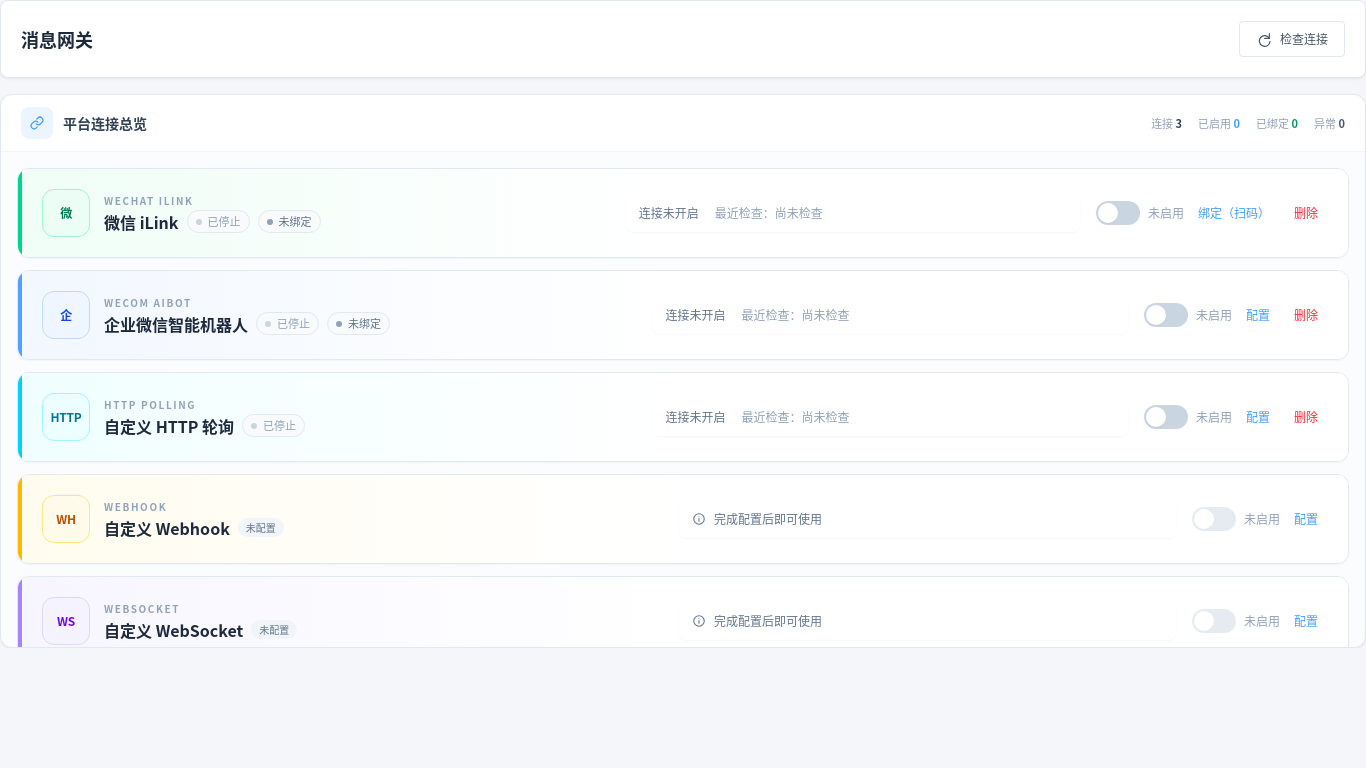
Test case: ConnectionsPage 平台分区与启用校验 › 系统生成 Token 仅本次展示，重开后只允许重新生成
Expected: the element "自定义 WebSocket" is shown, [17,576,1349,647]
Click the button "配置" in the row of "自定义 WebSocket": (1306, 621) [1284,605,1328,637]
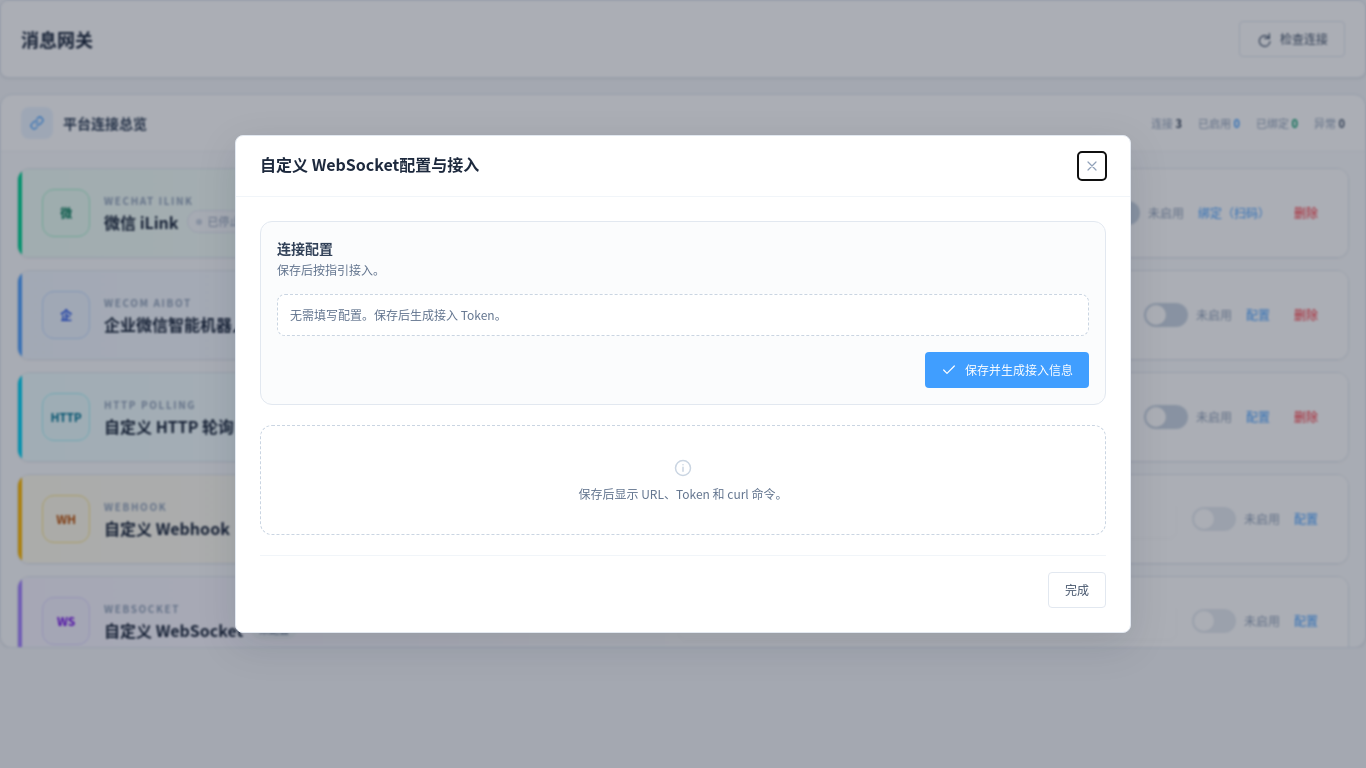
Click the button "保存并生成接入信息": (1007, 370) [925,352,1089,388]
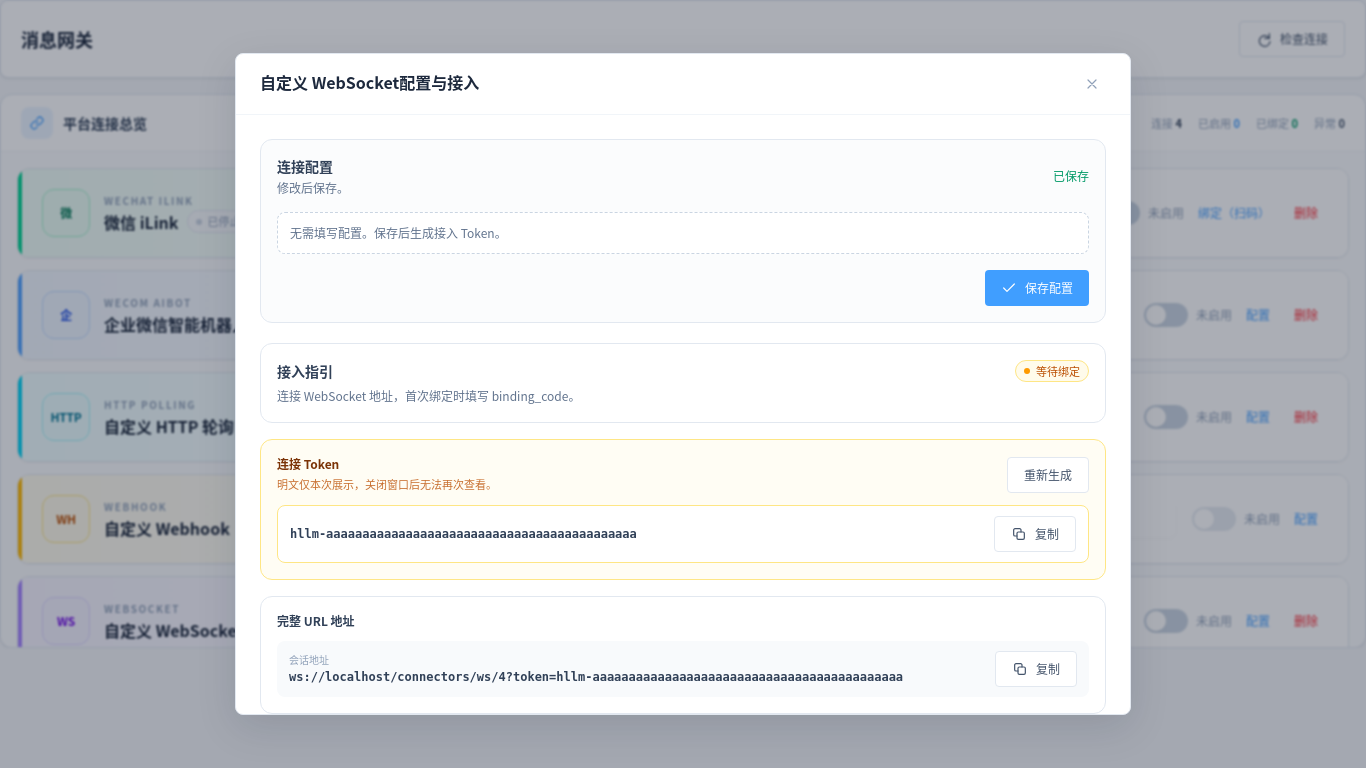
Now the text "明文仅本次展示，关闭窗口后无法再次查看。" is shown, box [277,476,497,493]
Now the text "/connectors/ws/4?token=hllm-" is shown, box [289,670,903,684]
Click the button named "关闭": (1092, 84) [1078,70,1106,98]
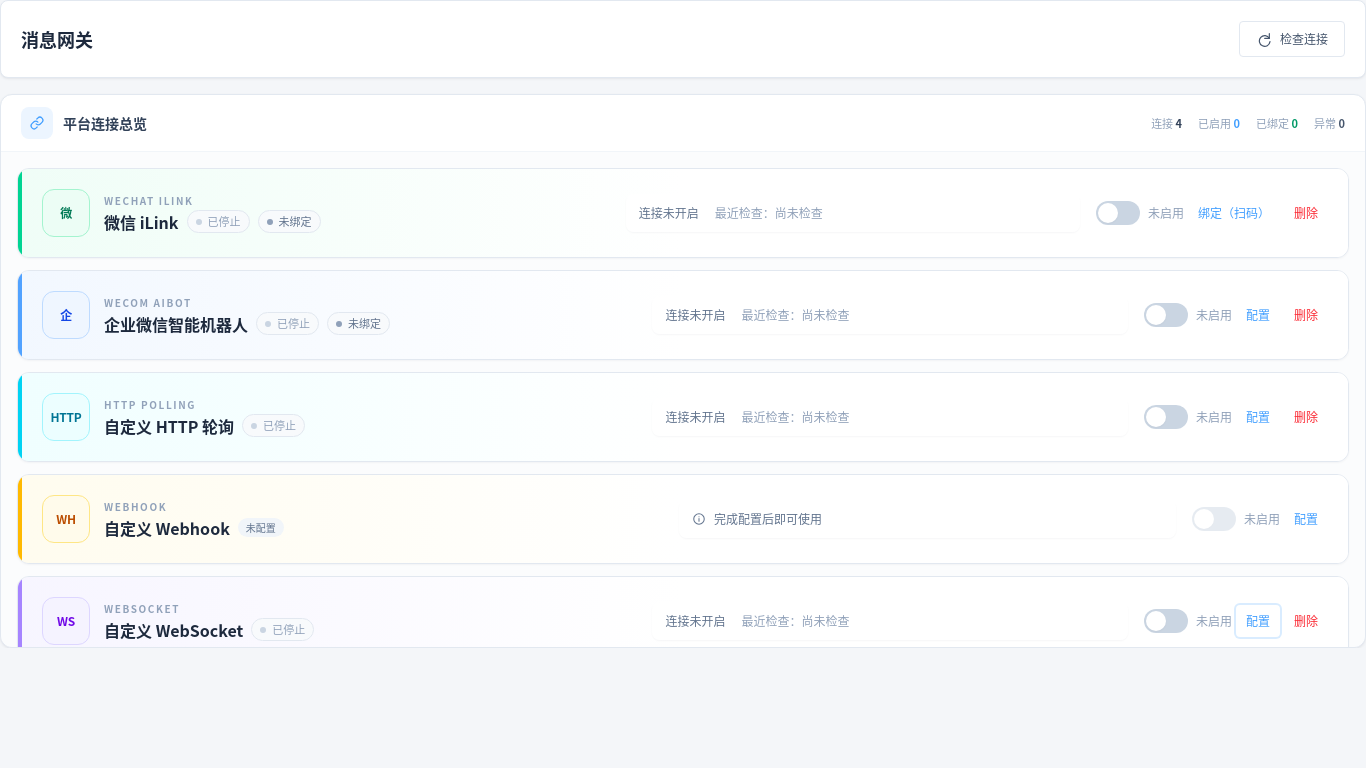
Click the button "配置" in the row of "自定义 WebSocket": (1258, 621) [1236,605,1280,637]
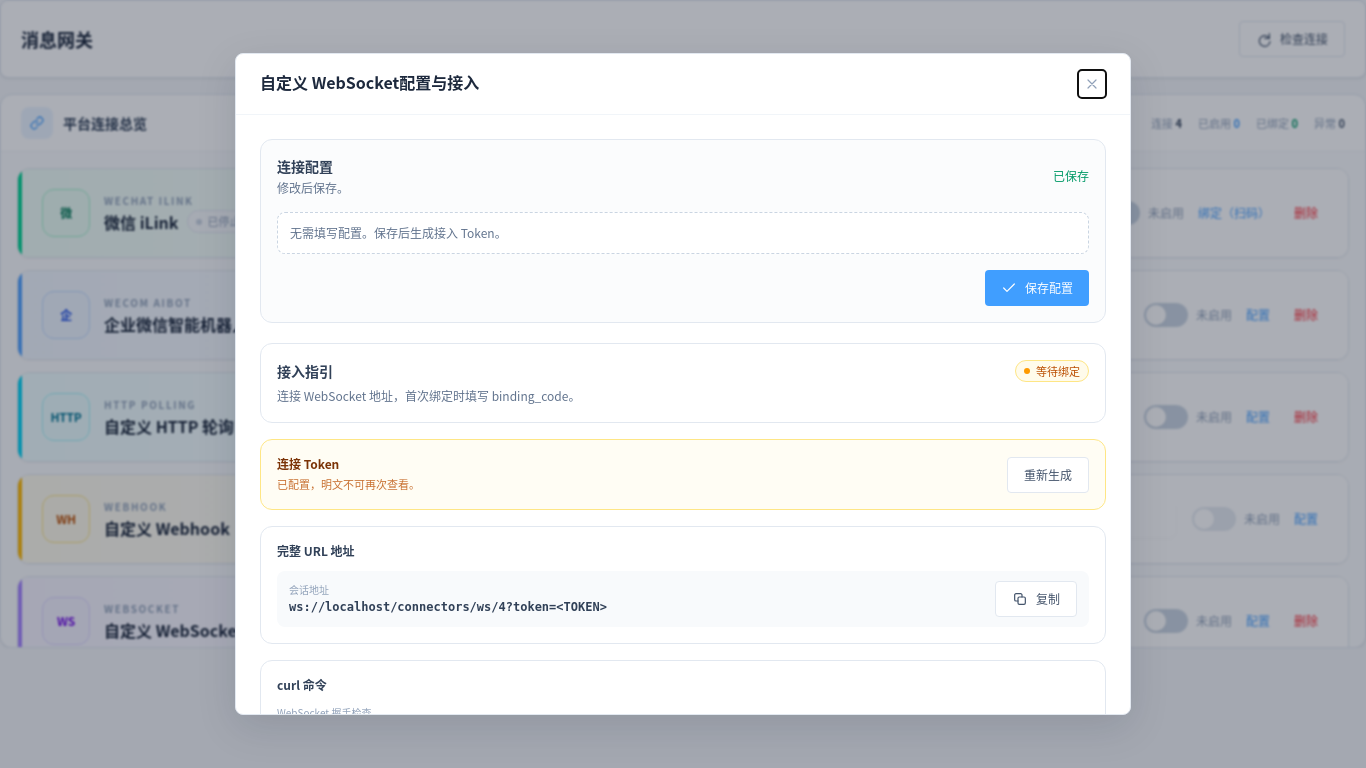
Now the text "已配置，明文不可再次查看。" is shown, box [277,476,420,493]
Now the button "重新生成" is shown, box [1007,457,1089,493]
